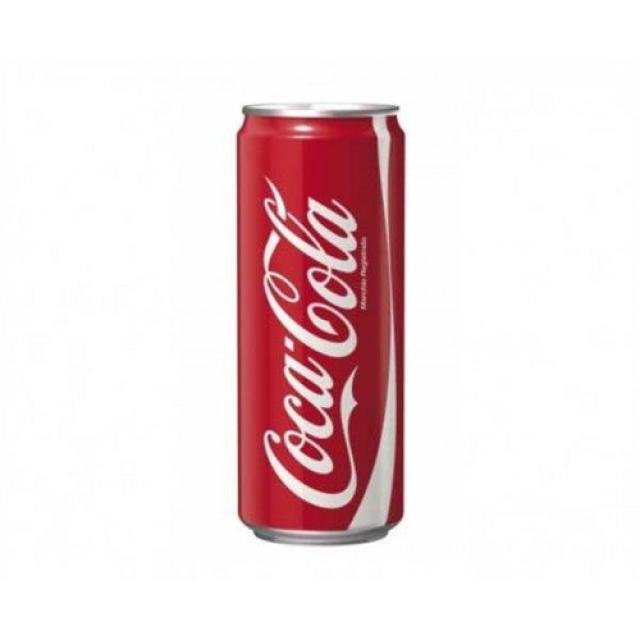cocacola: (235, 106, 405, 544)
